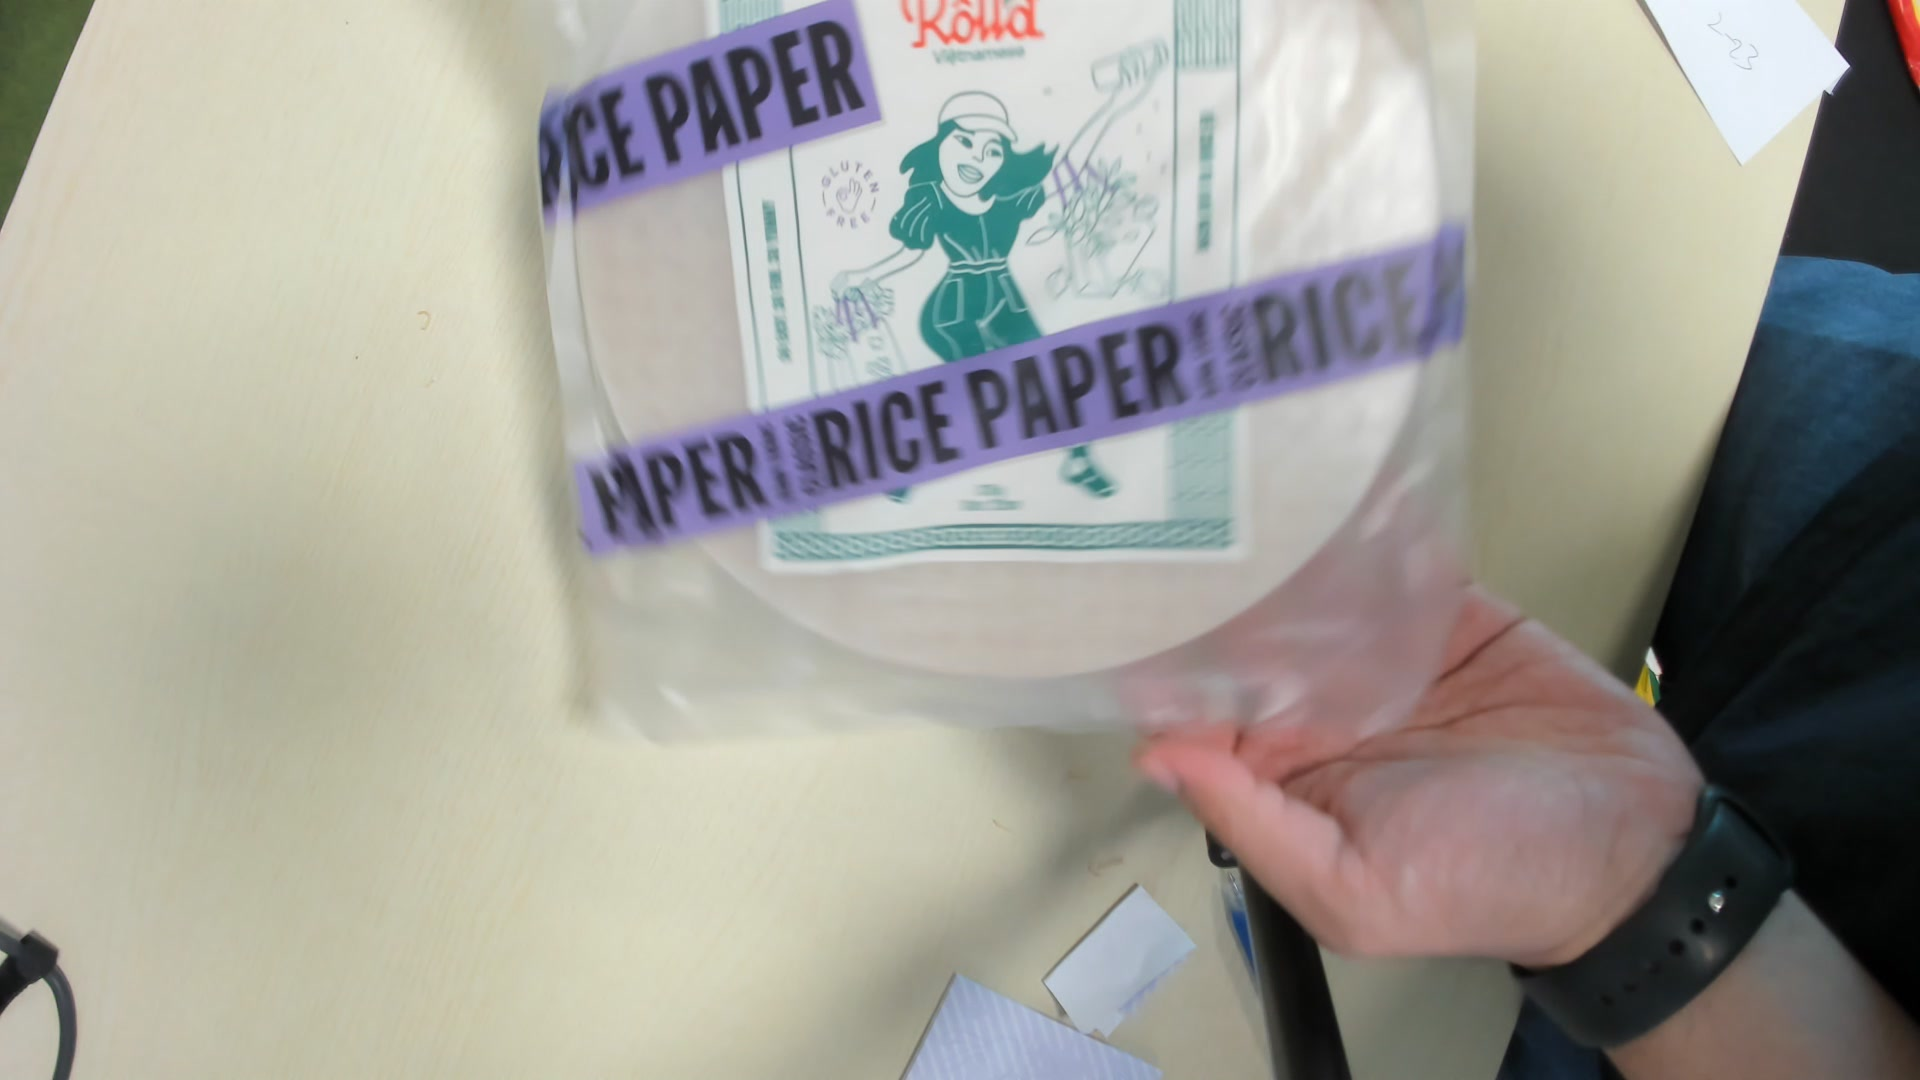InstantMeals_300_399g_NonHalal_NonHealthy: (524, 11, 1487, 748)
